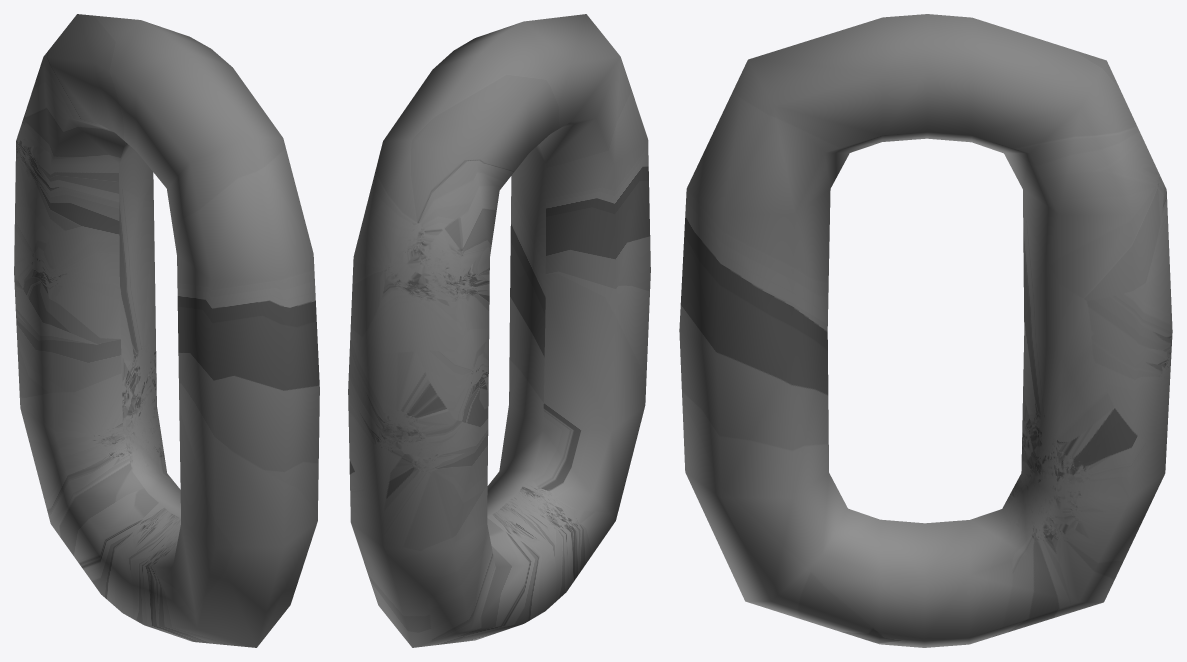
Rendered from Chain00.fbx.
The picture shows the model from 3 angles, left to right: view 1: azimuth 30°, elevation 25°; view 2: azimuth 150°, elevation 25°; view 3: azimuth 270°, elevation 25°; orthographic projection. The views are drawn at different scales.
Visible parts, largest first — view 1: Object002; view 2: Object002; view 3: Object002.
Boxes of the visible parts, bbox=[...] form: Object002: bbox=[14, 14, 319, 647]; Object002: bbox=[348, 14, 650, 647]; Object002: bbox=[679, 14, 1172, 647].
Size of the model in its own units: 0.7057 by 3.76 by 2.67.
